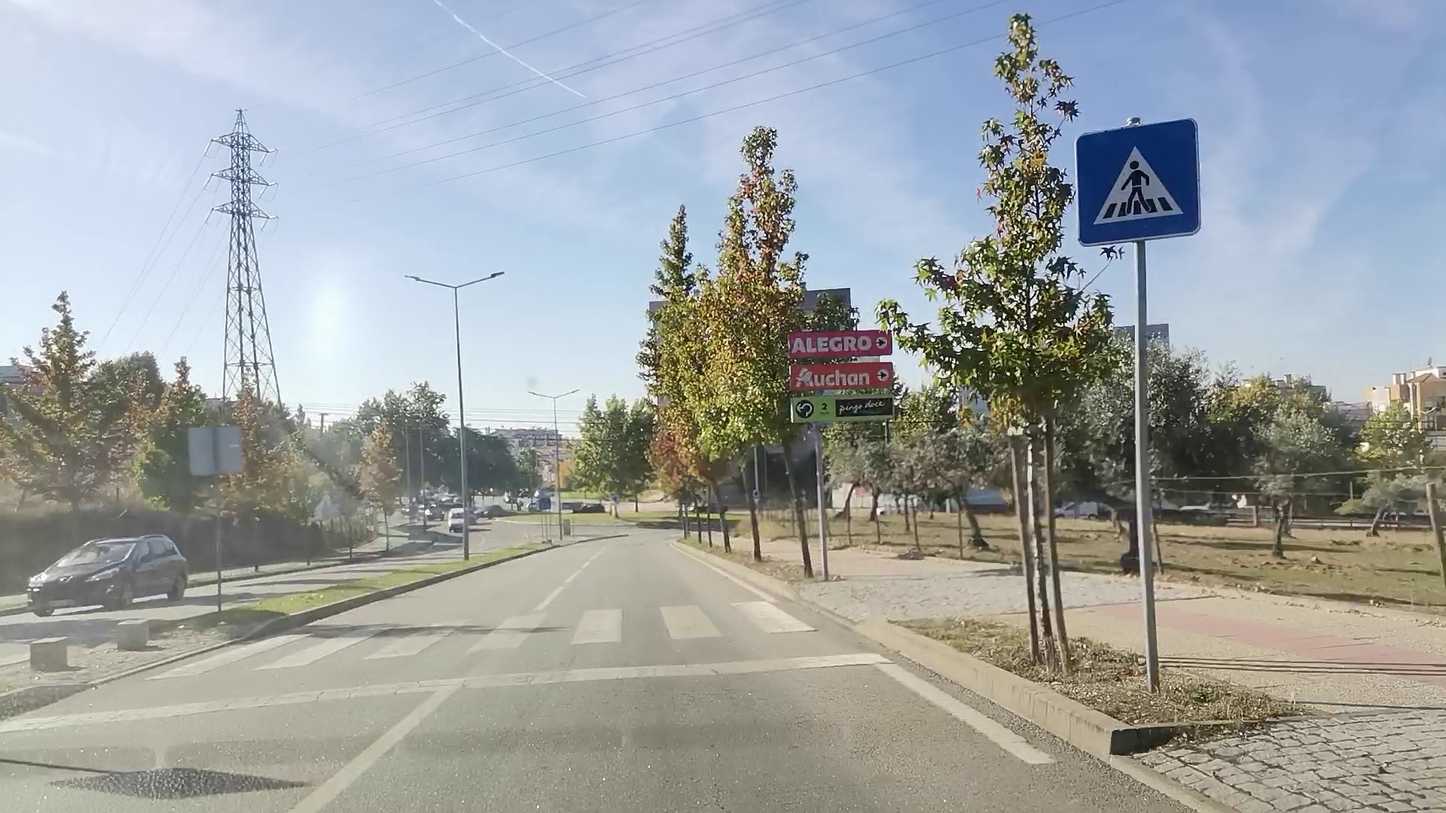Stairs: (203, 599, 826, 669)
